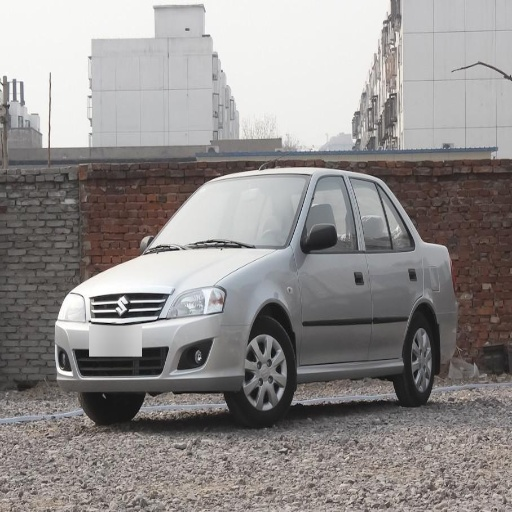front_bumper: (53, 285, 253, 390)
front_glass: (146, 178, 308, 253)
front_left_door: (298, 172, 372, 364)
